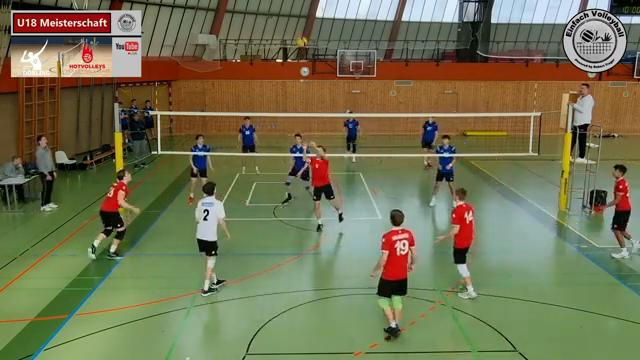Player: (371, 209, 416, 339), (436, 188, 477, 298), (88, 169, 138, 259), (195, 182, 230, 295), (605, 164, 639, 258), (282, 133, 309, 203), (429, 135, 455, 206), (188, 134, 212, 204), (421, 118, 438, 167), (344, 115, 359, 161), (238, 116, 257, 152)
Set: (301, 137, 351, 235)
ball: (297, 36, 309, 48)
